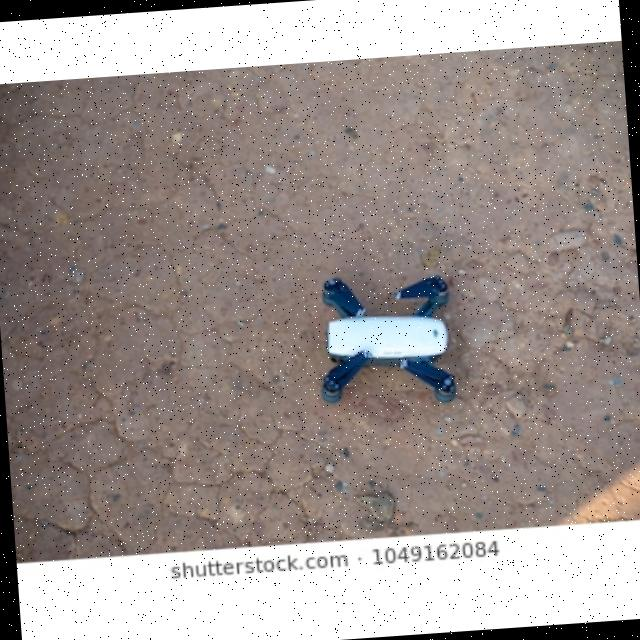Drones: (315, 263, 464, 409)
